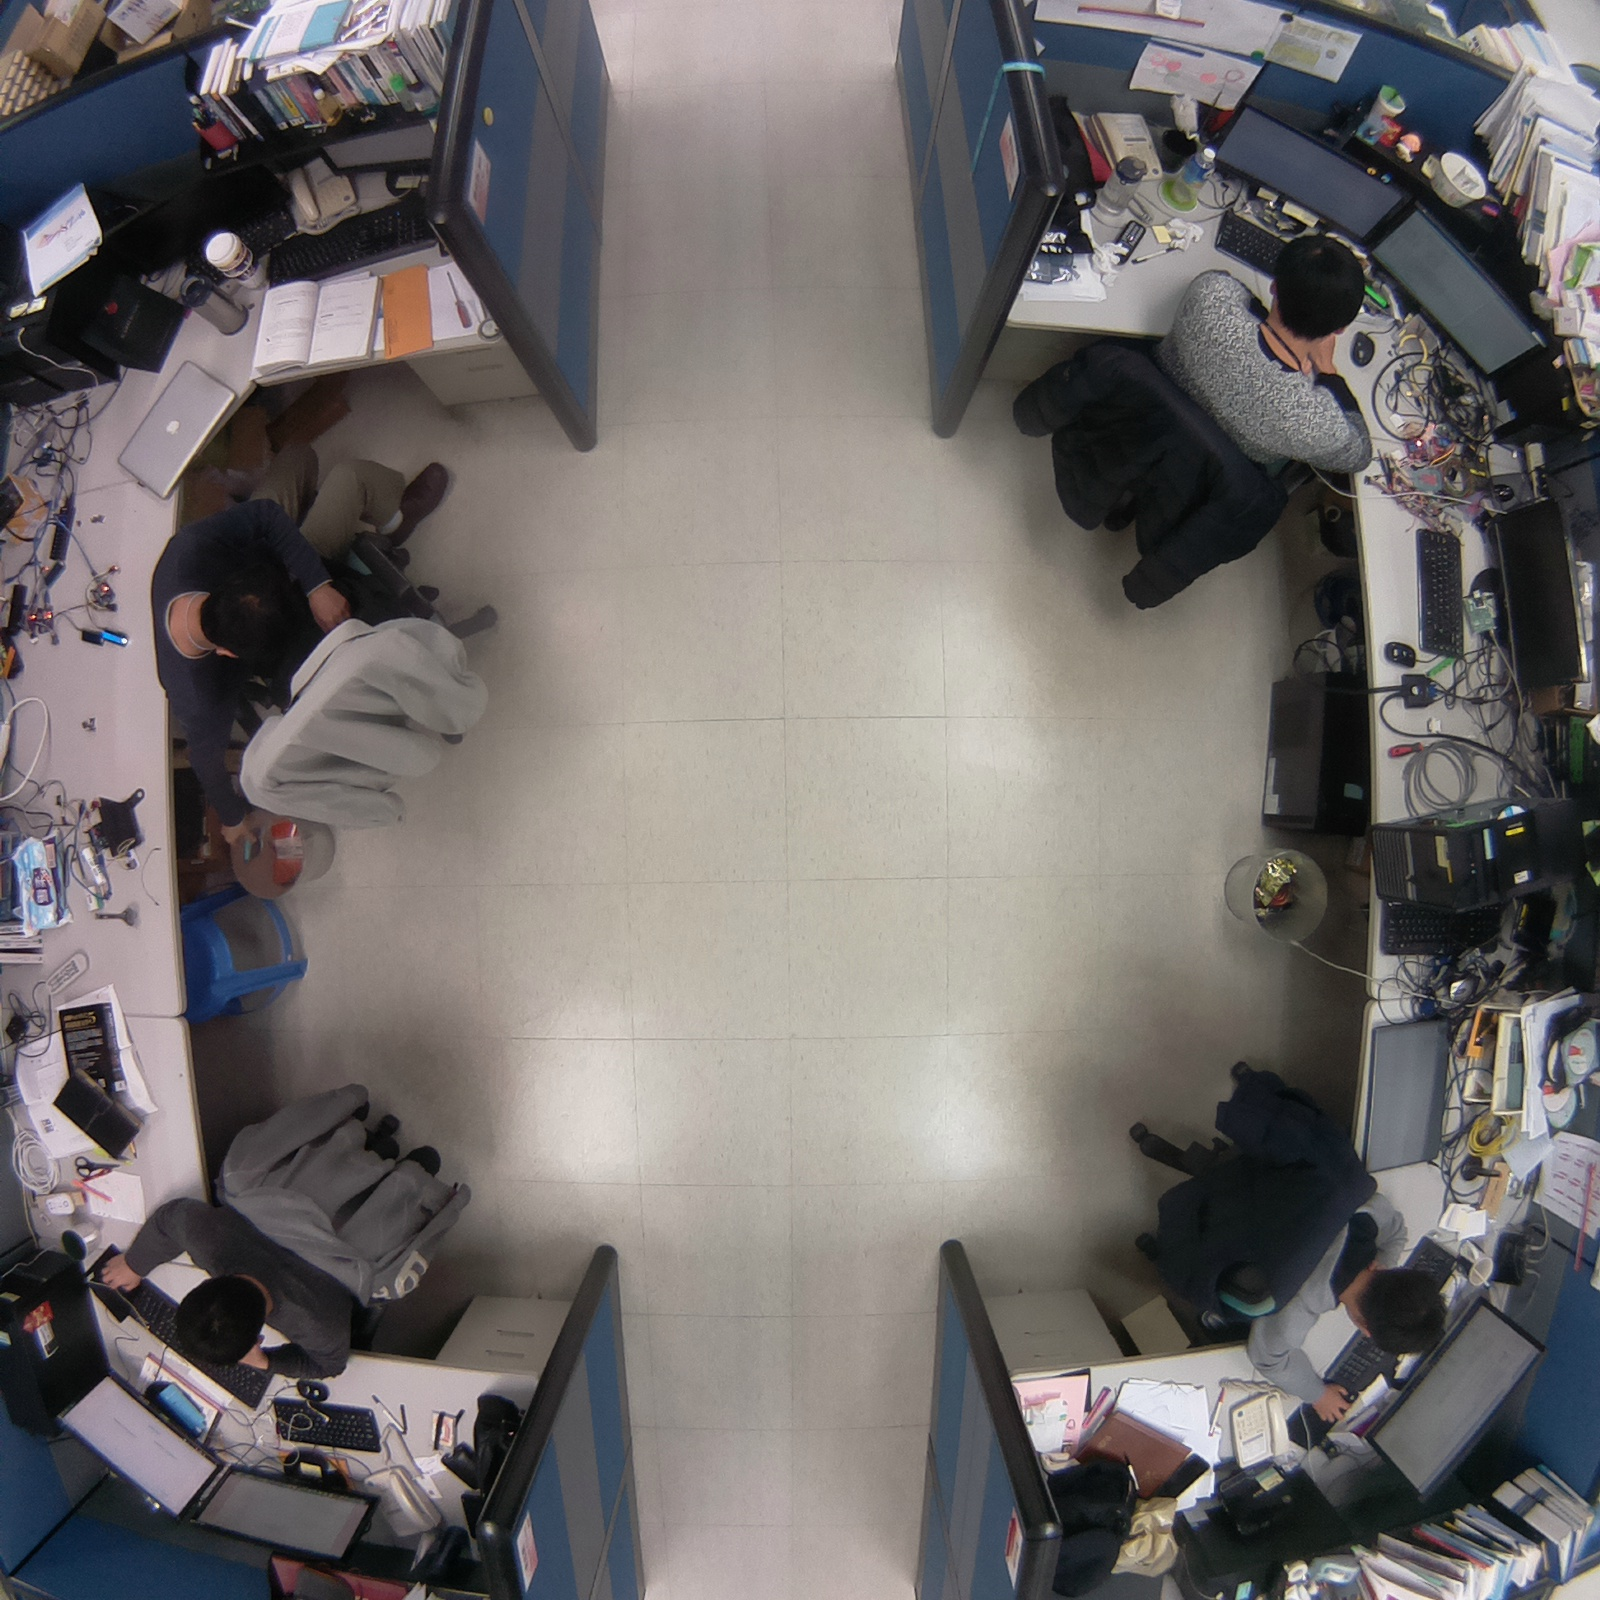sitting: (135, 428, 516, 878), (992, 226, 1404, 629), (1116, 1042, 1462, 1442), (92, 1070, 492, 1388)
